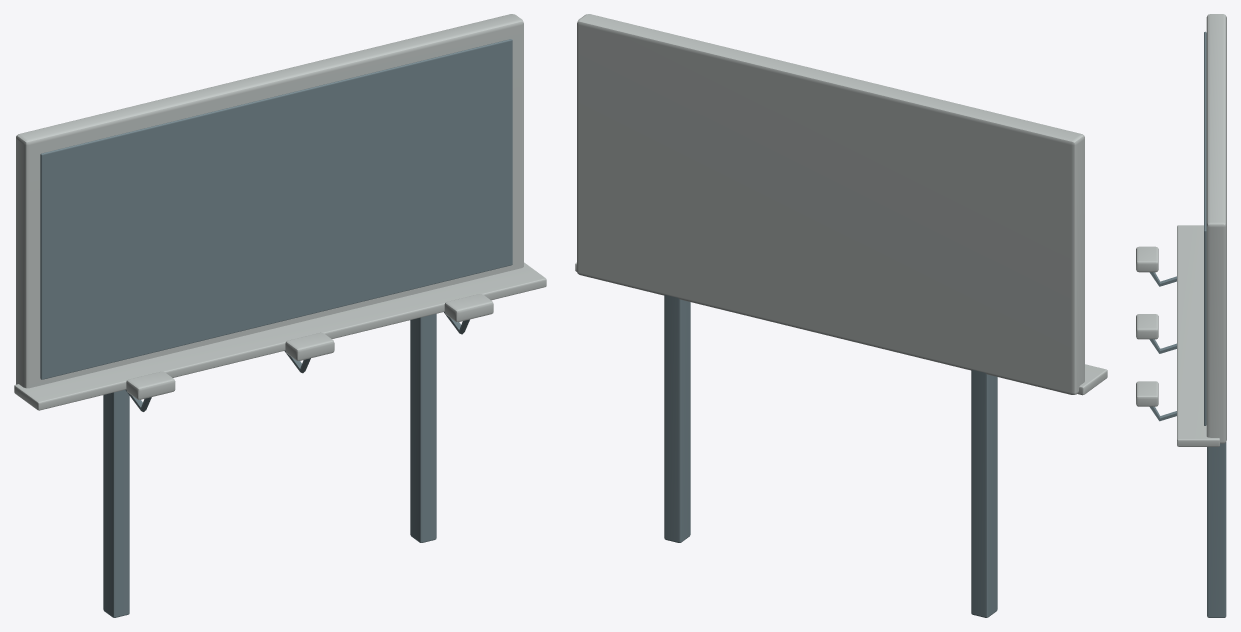
File: billboard.glb
3 renders of one model, left to right at view 1: azimuth 30°, elevation 25°; view 2: azimuth 150°, elevation 25°; view 3: azimuth 270°, elevation 25°, orthographic. The views are drawn at different scales.
Visible parts, largest first — view 1: display_panel, billboard_frame, bottom_ledge, support_post.001, support_post, uplight, uplight.001, uplight.002; view 2: billboard_frame, support_post, support_post.001; view 3: billboard_frame, bottom_ledge, support_post.001, display_panel, uplight, uplight.002, uplight.001, lamp_arm.002, lamp_arm, lamp_arm.001.
Part boxes in pixels (box(x1,y1,x2,y2)): display_panel: box(40, 39, 512, 379); billboard_frame: box(16, 14, 523, 388); bottom_ledge: box(14, 262, 546, 410); support_post.001: box(410, 314, 436, 542); support_post: box(103, 390, 129, 617); uplight: box(126, 371, 175, 399); uplight.001: box(285, 332, 334, 360); uplight.002: box(444, 294, 493, 322); billboard_frame: box(577, 14, 1084, 394); support_post: box(971, 369, 997, 617); support_post.001: box(664, 295, 690, 542); billboard_frame: box(1206, 14, 1226, 443); bottom_ledge: box(1177, 225, 1219, 446); support_post.001: box(1207, 442, 1226, 617); display_panel: box(1204, 31, 1206, 425); uplight: box(1136, 246, 1158, 272); uplight.002: box(1136, 381, 1158, 406); uplight.001: box(1136, 314, 1158, 339); lamp_arm.002: box(1149, 406, 1176, 421); lamp_arm: box(1149, 272, 1176, 286); lamp_arm.001: box(1149, 339, 1176, 353).
Bounding box in the file's own units: 4.48 × 4.19 × 0.8.
